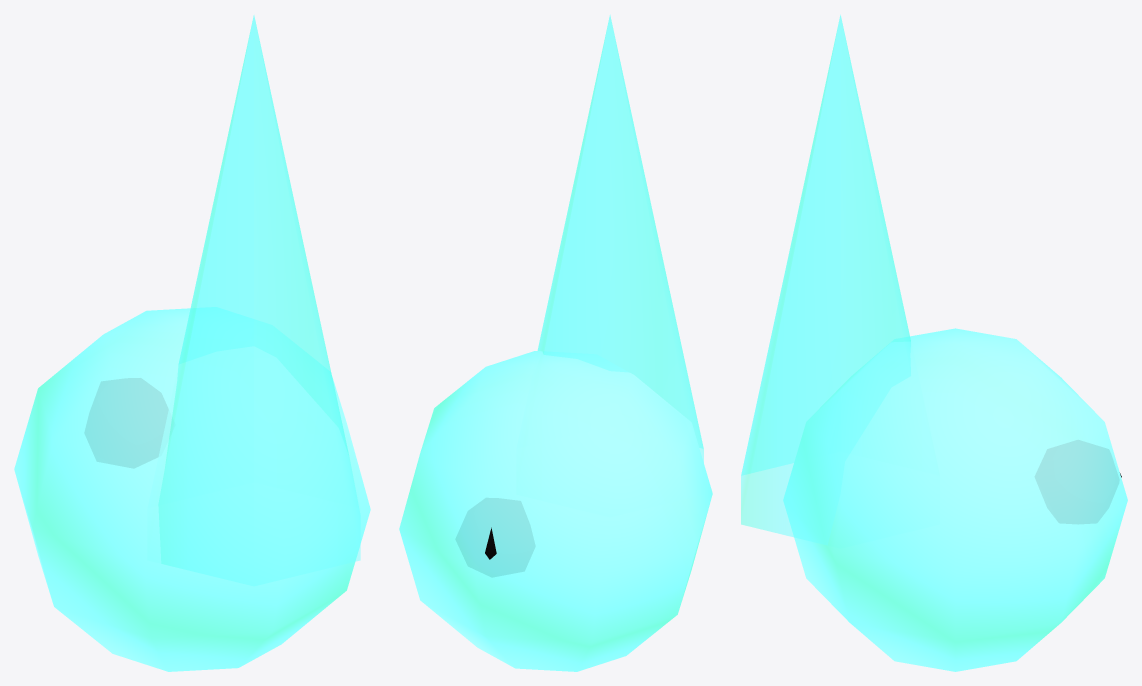
Rendered from fx_r_bolt.glb.
3 views of the same model, side by side, from view 1: azimuth 30°, elevation 25°; view 2: azimuth 150°, elevation 25°; view 3: azimuth 270°, elevation 25° (orthographic). The views are drawn at different scales.
Parts seen in each view (by area): view 1: fx_r_bolt_soul, fx_r_bolt_tail; view 2: fx_r_bolt_soul, fx_r_bolt_tail; view 3: fx_r_bolt_soul, fx_r_bolt_tail.
Boxes of the visible parts, x1=… form: fx_r_bolt_soul: x1=14, y1=307, x2=370, y2=671; fx_r_bolt_tail: x1=158, y1=15, x2=360, y2=586; fx_r_bolt_soul: x1=399, y1=351, x2=712, y2=671; fx_r_bolt_tail: x1=537, y1=14, x2=703, y2=462; fx_r_bolt_soul: x1=783, y1=328, x2=1127, y2=671; fx_r_bolt_tail: x1=741, y1=14, x2=910, y2=545.
Bounding box in the file's own units: 0.9 × 1.85 × 1.01.
